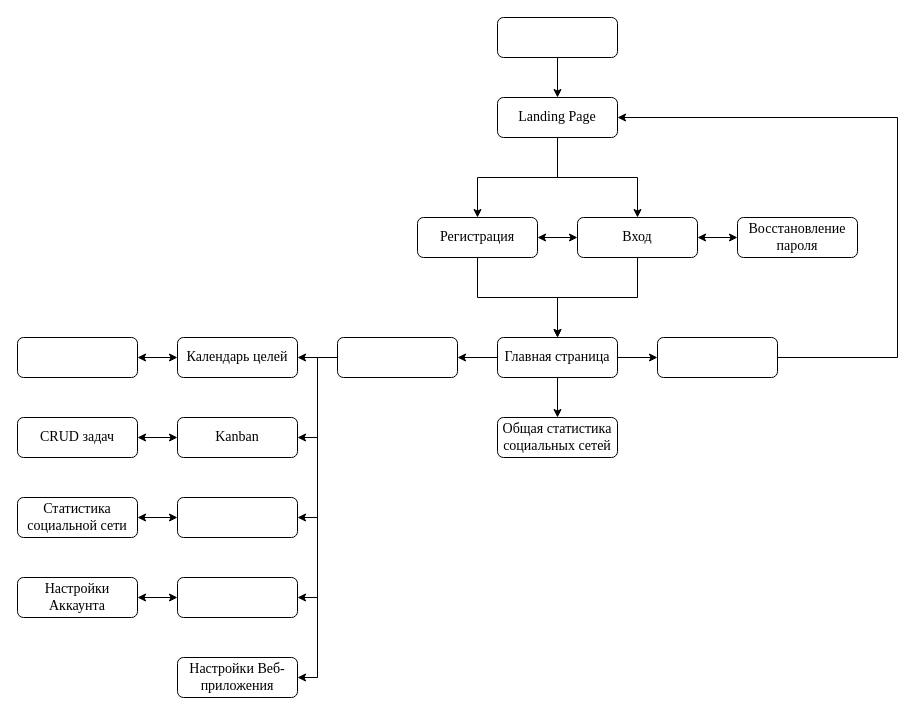
Image size: 923x715. Some labels were removed from this diagram. Each missing label, with the box of its shape:
<Боковое меню />: (336, 336, 458, 378)
CRUD целей: (16, 336, 138, 378)
Аккаунт: (176, 576, 298, 618)
Вход в веб-приложение: (496, 16, 618, 58)
Выход: (656, 336, 778, 378)
Список социальных сетей: (176, 496, 298, 538)
